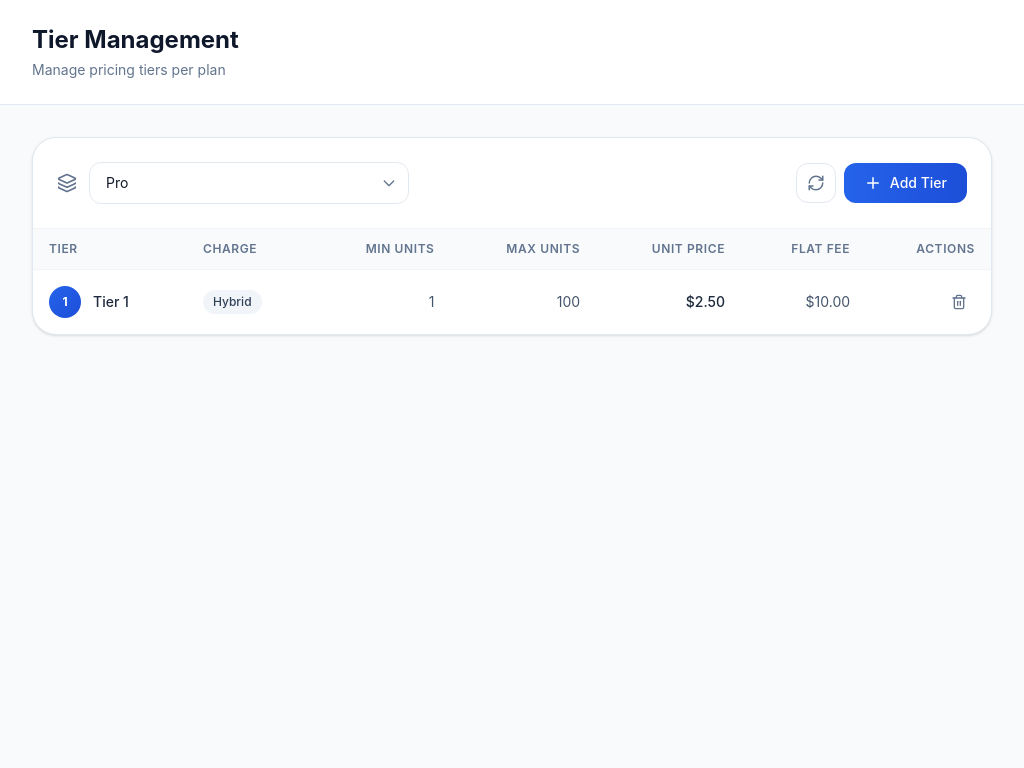
Test: C3 — the form sends exactly the tier contract › a failed removal is shown in the dialog
The image size is (1024, 768).
Click the button named "Remove tier 1" at (959, 302), box x1=943 y1=286 x2=975 y2=318
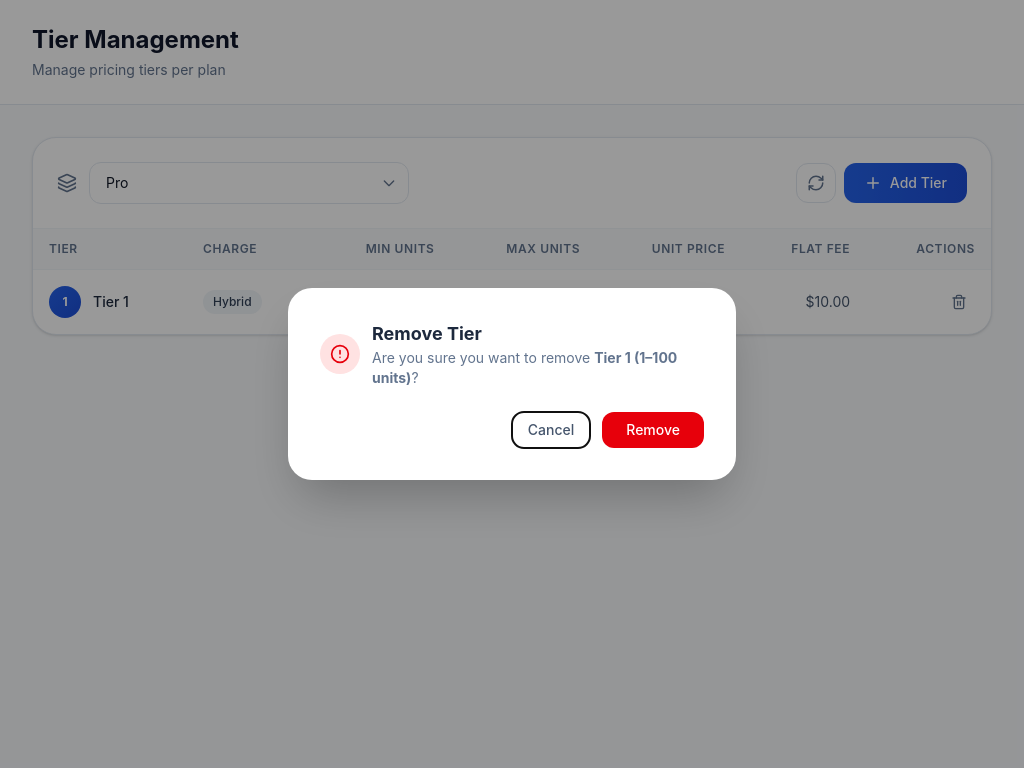
Result: the dialog shows "Tier 1 (1–100 units)" at x1=372 y1=349 x2=677 y2=386
Click the button "Remove" at (653, 430), box x1=602 y1=412 x2=704 y2=448
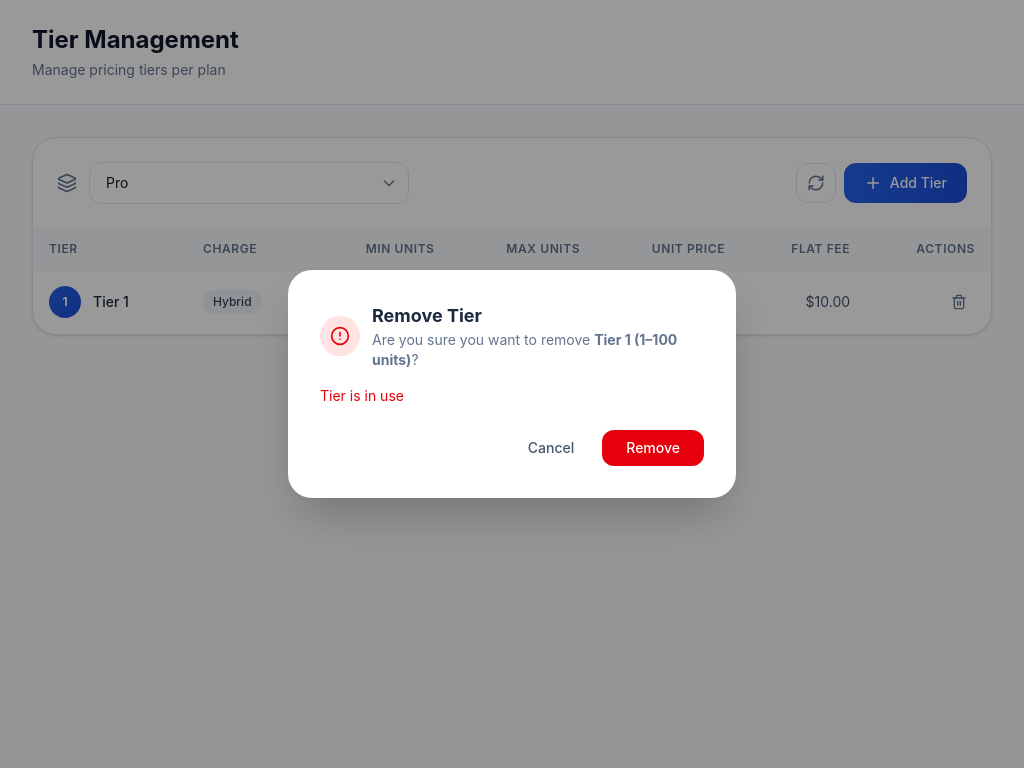
Result: the text "Tier is in use" is shown at x1=320 y1=387 x2=404 y2=404
